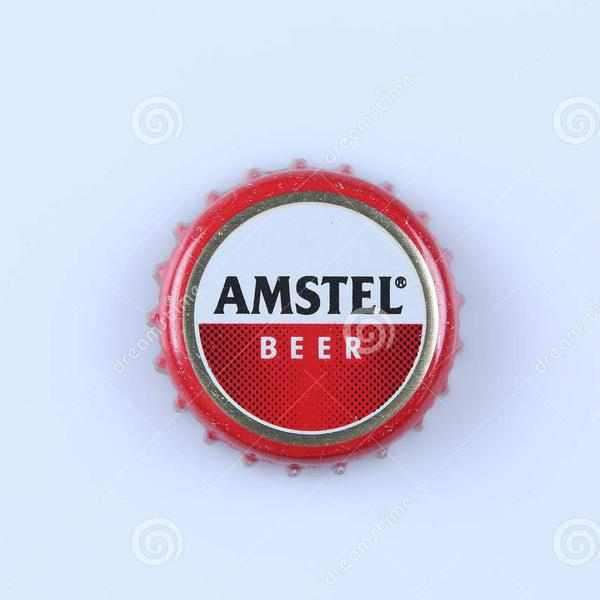amstel: (138, 153, 469, 477)
